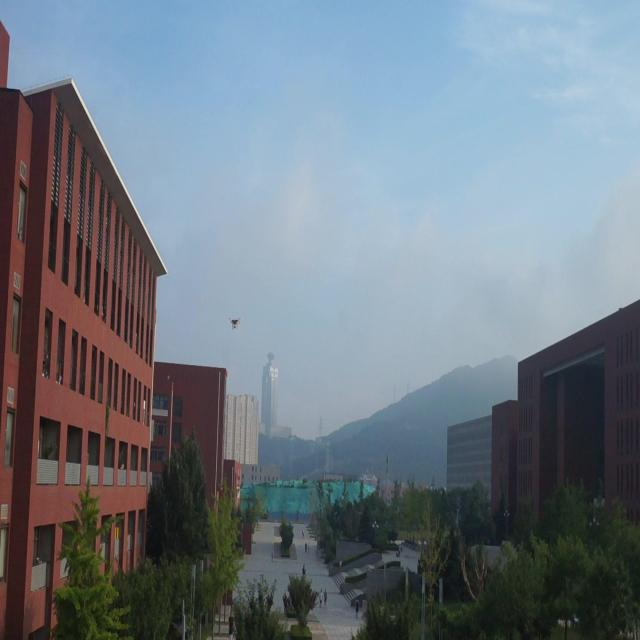drone: (229, 314, 241, 330)
